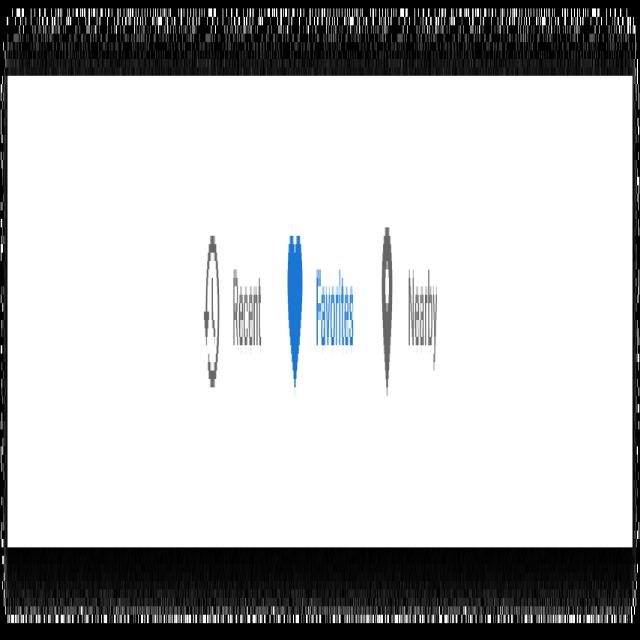QLabel: (315, 260, 354, 368), (407, 253, 437, 372), (232, 260, 262, 361)
VBottomNavigation: (7, 70, 633, 558)
VBtn: (283, 193, 356, 425), (376, 172, 439, 439), (198, 196, 264, 432)
VIcon: (286, 228, 303, 400), (203, 228, 220, 397), (381, 214, 393, 404)
